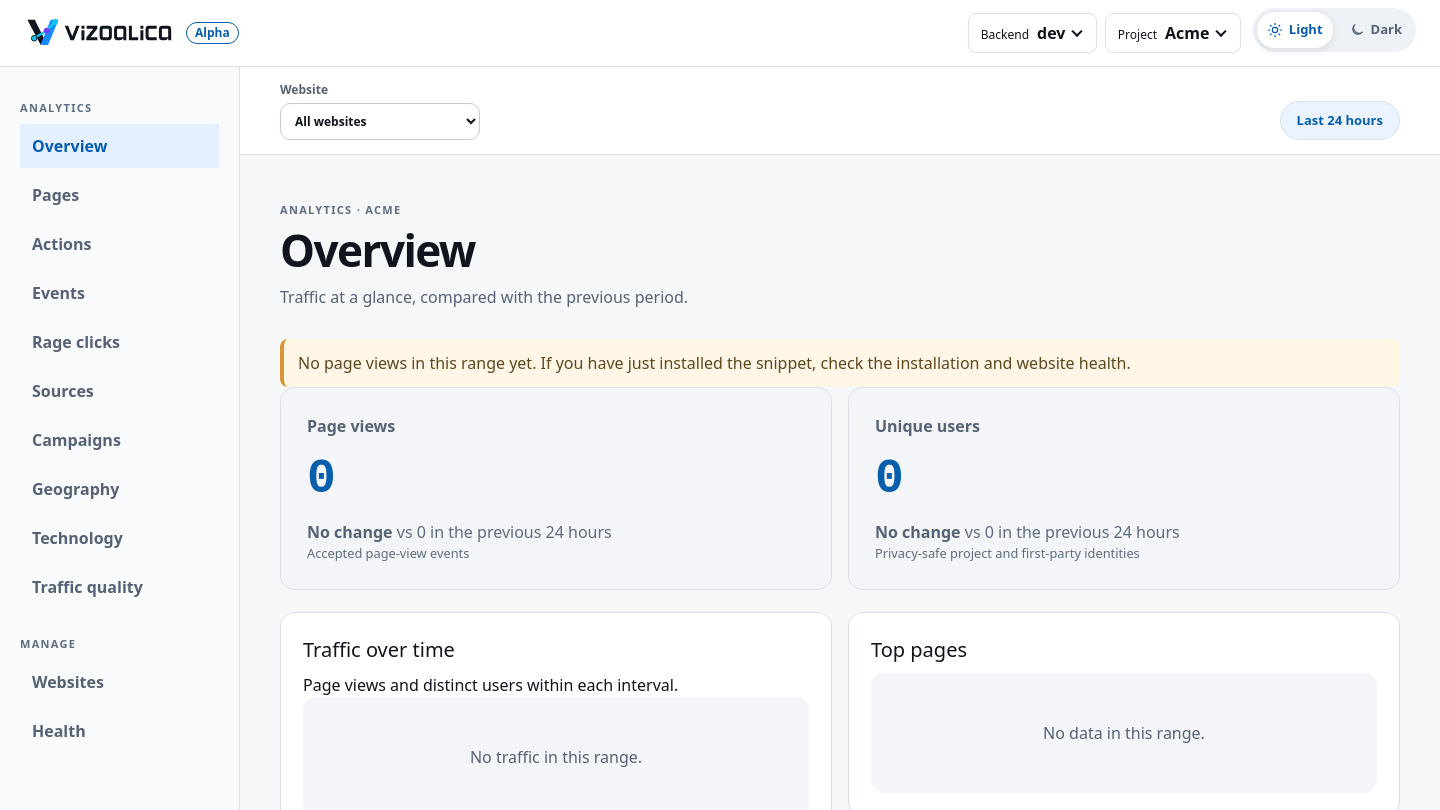
single scope control › lists the environment’s projects in the menu, marks the current one, and ends with All projects
The width and height of the screenshot is (1440, 810).
Click the button "Project Acme" at (1173, 33), box [1105,13,1241,53]
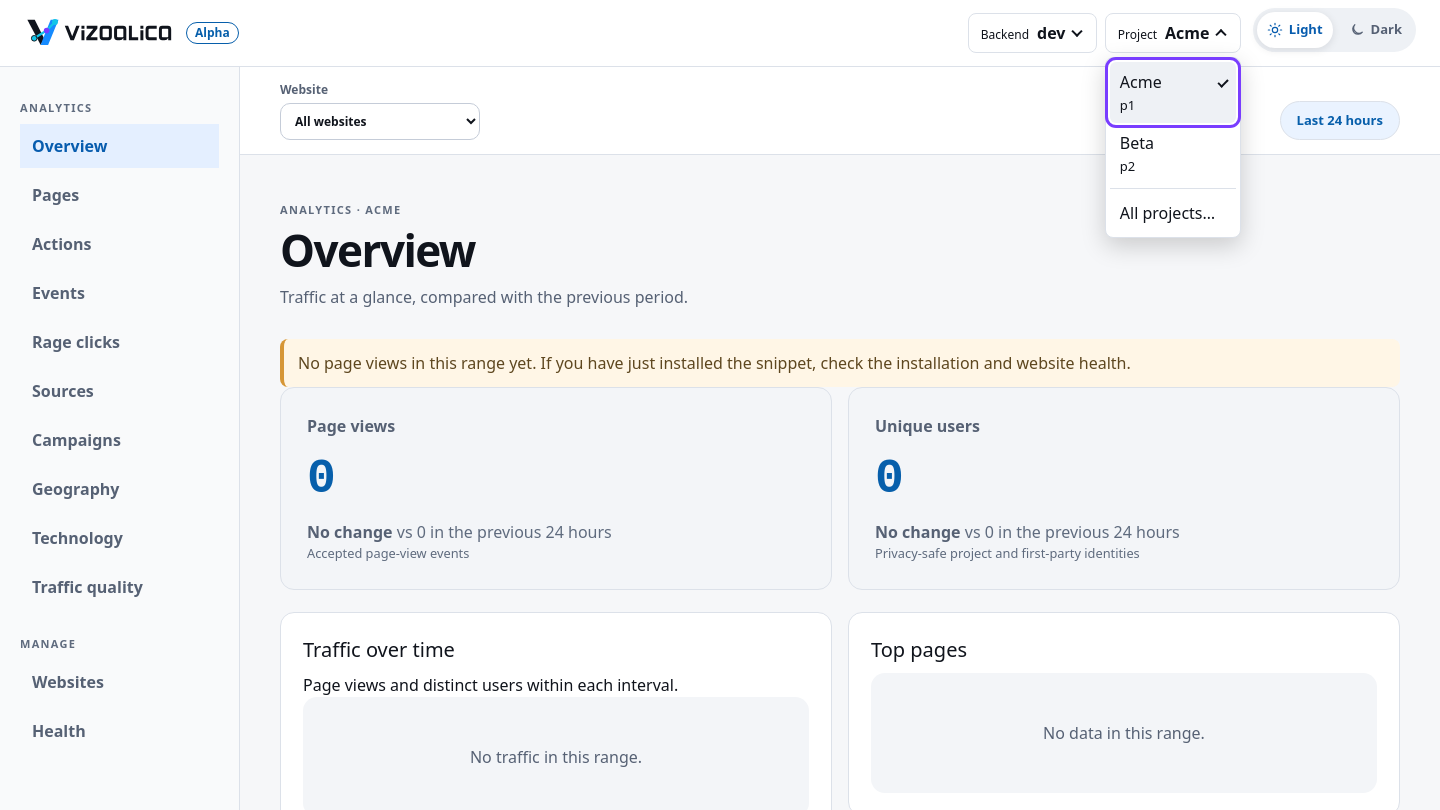
Expected: the menu items read "All projects…", in this order, [1120,202,1215,224]
